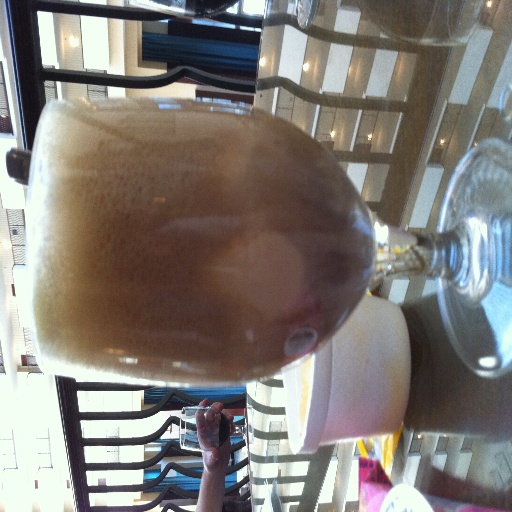hand: (194, 398, 236, 474)
